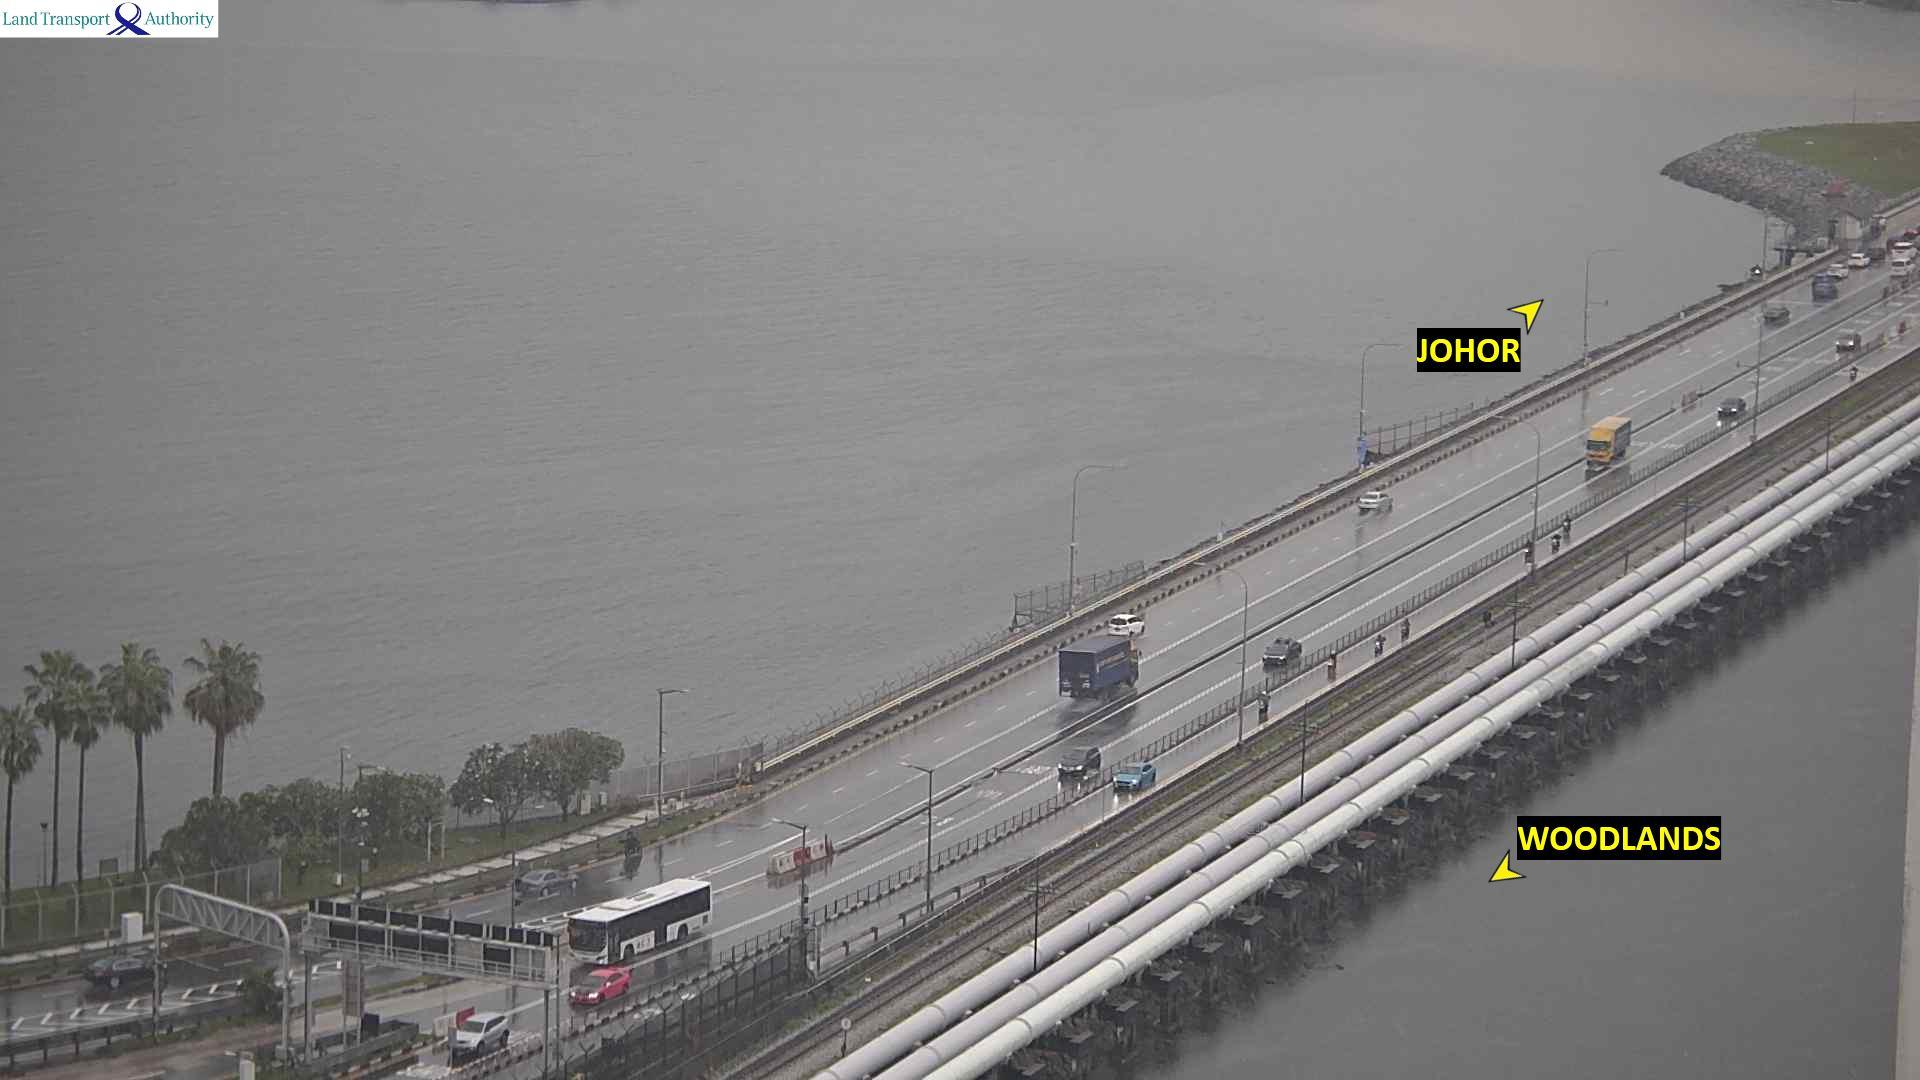vehicle-causeway-johor: (1059, 642, 1137, 696), (87, 959, 161, 990), (514, 877, 575, 895), (1109, 612, 1151, 632), (1357, 491, 1391, 512), (1764, 302, 1788, 320), (1891, 260, 1916, 277), (1842, 253, 1869, 269), (1813, 281, 1837, 298), (1892, 241, 1916, 258)
vehicle-causeway-singapore: (571, 886, 717, 961), (452, 1010, 510, 1052), (567, 971, 633, 1006), (1585, 419, 1631, 462), (1060, 748, 1100, 779), (1261, 640, 1303, 666), (1114, 766, 1160, 790), (1834, 331, 1862, 351), (1714, 401, 1743, 418), (1371, 633, 1389, 657), (1258, 690, 1270, 712), (1325, 651, 1337, 671), (1400, 618, 1410, 637), (1551, 533, 1560, 550), (1563, 514, 1572, 531), (1524, 539, 1531, 562), (1850, 365, 1857, 378)
